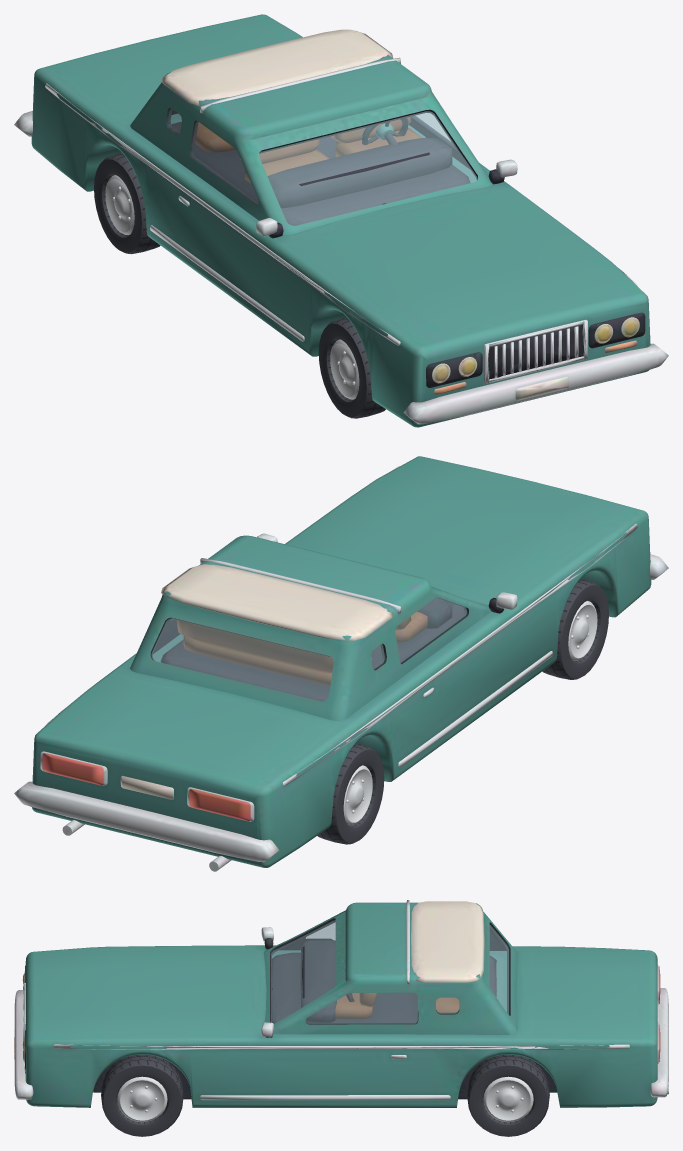
The model's file is coupe70.glb.
3 renders of one model, top to bottom at view 1: azimuth 30°, elevation 25°; view 2: azimuth 150°, elevation 25°; view 3: azimuth 270°, elevation 25°, orthographic. The views are drawn at different scales.
Parts seen in each view (by area): view 1: 1970s-coupe_body, 1970s-coupe_windows, 1970s-coupe_wheel_fr, 1970s-coupe_wheel_rr; view 2: 1970s-coupe_body, 1970s-coupe_windows, 1970s-coupe_wheel_rr, 1970s-coupe_wheel_fr; view 3: 1970s-coupe_body, 1970s-coupe_windows, 1970s-coupe_wheel_rl, 1970s-coupe_wheel_fl.
Boxes of the visible parts, box(x1,y1,x2,y2) form: 1970s-coupe_body: box(14, 14, 668, 427); 1970s-coupe_windows: box(168, 108, 477, 225); 1970s-coupe_wheel_fr: box(318, 317, 385, 418); 1970s-coupe_wheel_rr: box(94, 153, 160, 254); 1970s-coupe_body: box(14, 456, 668, 871); 1970s-coupe_windows: box(152, 598, 466, 701); 1970s-coupe_wheel_rr: box(317, 743, 384, 844); 1970s-coupe_wheel_fr: box(542, 578, 608, 679); 1970s-coupe_body: box(14, 900, 668, 1107); 1970s-coupe_windows: box(271, 920, 508, 1023); 1970s-coupe_wheel_rl: box(467, 1054, 549, 1136); 1970s-coupe_wheel_fl: box(101, 1054, 183, 1136).
Bounding box in the file's own units: 1.93 × 1.34 × 5.22.
Materials: 6 (2 with a texture image).
